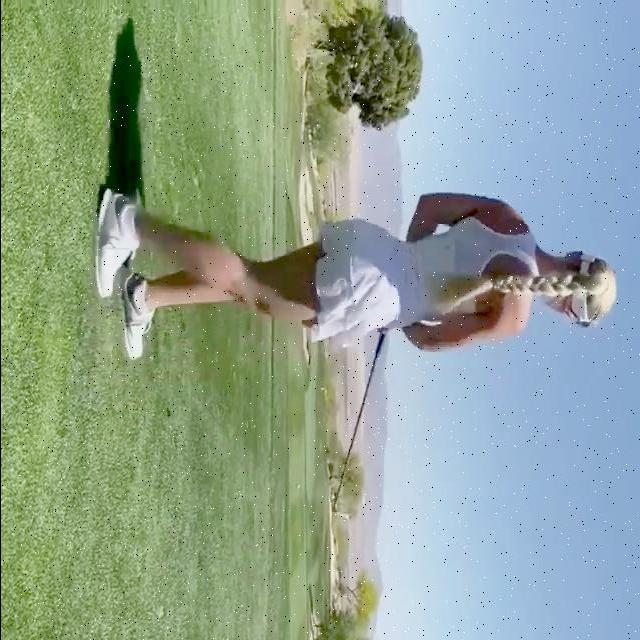ClubHandle: (332, 328, 386, 519)
ClubHead: (332, 509, 349, 519)
